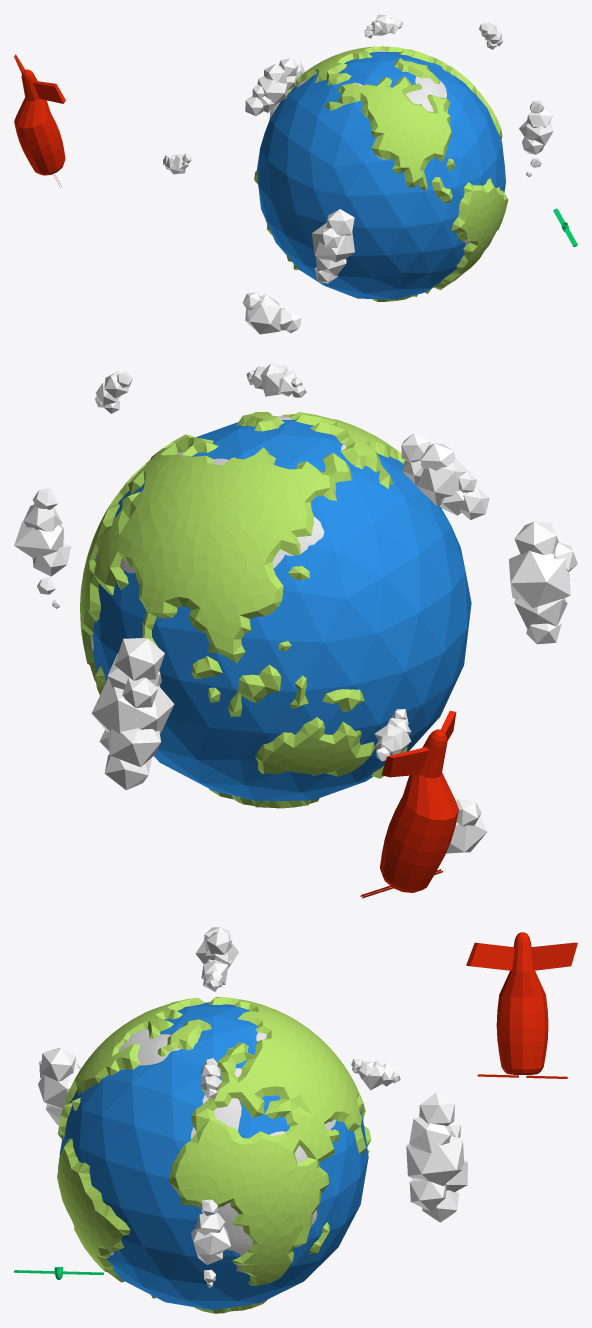
The picture shows the model from 3 angles, top to bottom: view 1: azimuth 30°, elevation 25°; view 2: azimuth 150°, elevation 25°; view 3: azimuth 270°, elevation 25°; orthographic projection. The views are drawn at different scales.
Visible parts, largest first — view 1: Ocean, Sphere.001, Cylinder, Cloud 5, Cloud 2, Cloud 4, Cloud 6, Sphere, Cloud 7, Cloud 8, Cloud 1; view 2: Ocean, Sphere.001, Cylinder, Cloud 3, Cloud 5, Cloud 2, Cloud 6, Cloud 4, Cloud 7, Cloud 8, Cloud 1, Sphere; view 3: Sphere.001, Ocean, Cylinder, Cloud 3, Sphere, Cloud 5, Cloud 6, Cloud 2, Cloud 8, Cloud 7, Cloud 1.
Part boxes in pixels (x1,y1,x2,y2): Ocean: (257, 52, 505, 299); Sphere.001: (254, 46, 508, 301); Cylinder: (14, 54, 65, 187); Cloud 5: (312, 209, 354, 283); Cloud 2: (245, 58, 298, 115); Cloud 4: (242, 292, 301, 334); Cloud 6: (519, 100, 553, 176); Sphere: (296, 50, 478, 245); Cloud 7: (364, 14, 403, 38); Cloud 8: (163, 153, 191, 174); Cloud 1: (479, 22, 502, 49); Ocean: (92, 419, 471, 800); Sphere.001: (80, 411, 407, 808); Cylinder: (360, 710, 458, 898); Cloud 3: (91, 637, 174, 790); Cloud 5: (509, 521, 577, 644); Cloud 2: (401, 433, 489, 519); Cloud 6: (14, 488, 70, 608); Cloud 4: (446, 799, 487, 853); Cloud 7: (246, 363, 306, 397); Cloud 8: (374, 709, 411, 761); Cloud 1: (95, 371, 132, 413); Sphere: (90, 416, 346, 652); Sphere.001: (57, 997, 371, 1313); Ocean: (59, 1002, 368, 1310); Cylinder: (466, 932, 577, 1078); Cloud 3: (406, 1092, 467, 1222); Sphere: (110, 1005, 336, 1272); Cloud 5: (38, 1047, 81, 1125); Cloud 6: (191, 1199, 230, 1287); Cloud 2: (195, 927, 238, 968); Cloud 8: (351, 1058, 400, 1090); Cloud 7: (201, 959, 228, 991); Cloud 1: (200, 1058, 221, 1098).
Size of the model in its own units: 3.74 by 2.58 by 3.65.
